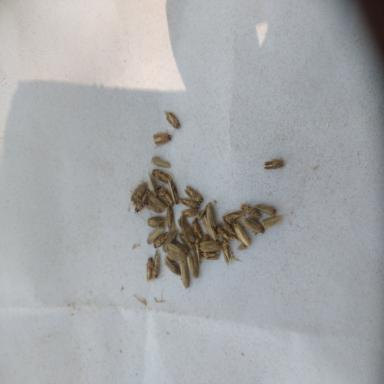pbw: (130, 180, 148, 204), (243, 216, 265, 235), (202, 214, 218, 240), (178, 216, 194, 242), (233, 222, 250, 246), (134, 188, 151, 212), (239, 203, 261, 220), (153, 130, 175, 147), (162, 229, 178, 252), (158, 184, 174, 207), (222, 209, 246, 224), (166, 243, 186, 261), (152, 168, 174, 184), (146, 225, 164, 244), (164, 256, 181, 276), (178, 230, 195, 250), (184, 185, 202, 203), (152, 231, 171, 248), (187, 253, 199, 279), (179, 260, 190, 288), (163, 111, 180, 129), (149, 192, 166, 209), (261, 158, 285, 170), (148, 172, 160, 196), (199, 240, 222, 252), (217, 225, 233, 242), (221, 222, 238, 238), (206, 201, 216, 228), (192, 206, 207, 224), (166, 205, 176, 232), (254, 204, 276, 216), (262, 215, 282, 228), (192, 217, 203, 240), (172, 240, 190, 254), (179, 197, 200, 209), (168, 180, 178, 205), (150, 156, 170, 168), (152, 250, 160, 279), (147, 216, 166, 228), (146, 201, 164, 213), (146, 257, 154, 282), (236, 237, 251, 250), (180, 208, 199, 218), (194, 239, 201, 265), (200, 252, 219, 260), (193, 249, 198, 272)
